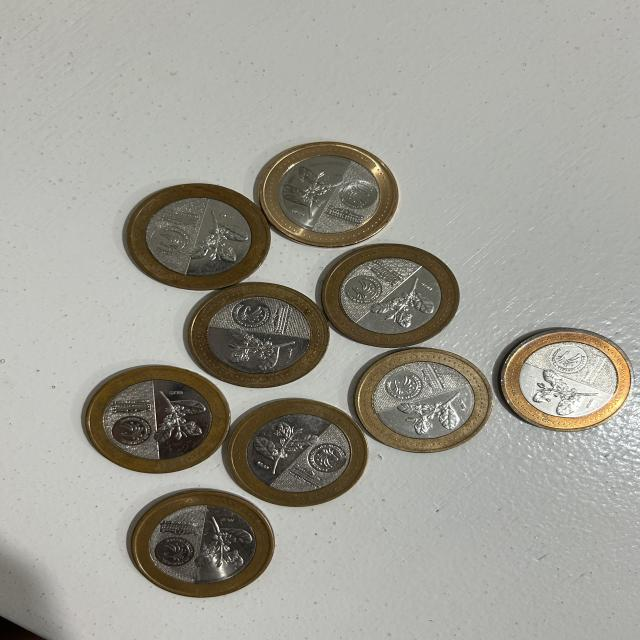20_New_Back: (363, 278, 443, 330)
